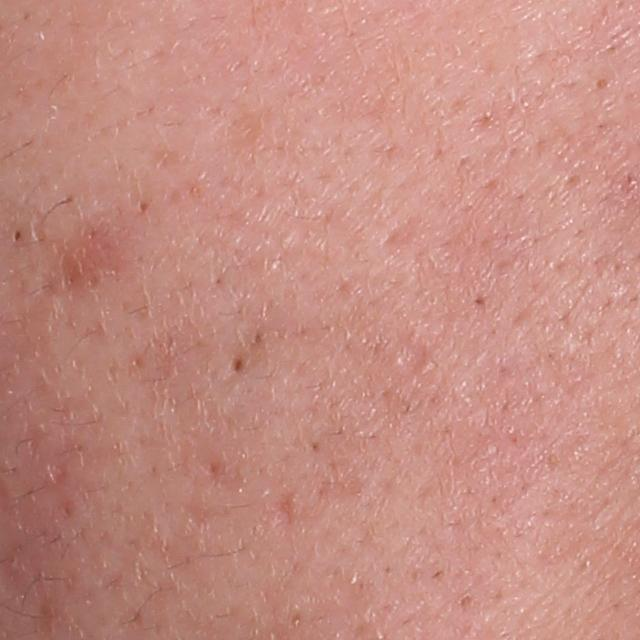atrophic_scar: (268, 487, 303, 534)
comedo: (586, 72, 612, 95), (228, 353, 249, 375), (136, 196, 155, 216), (10, 227, 22, 243)
